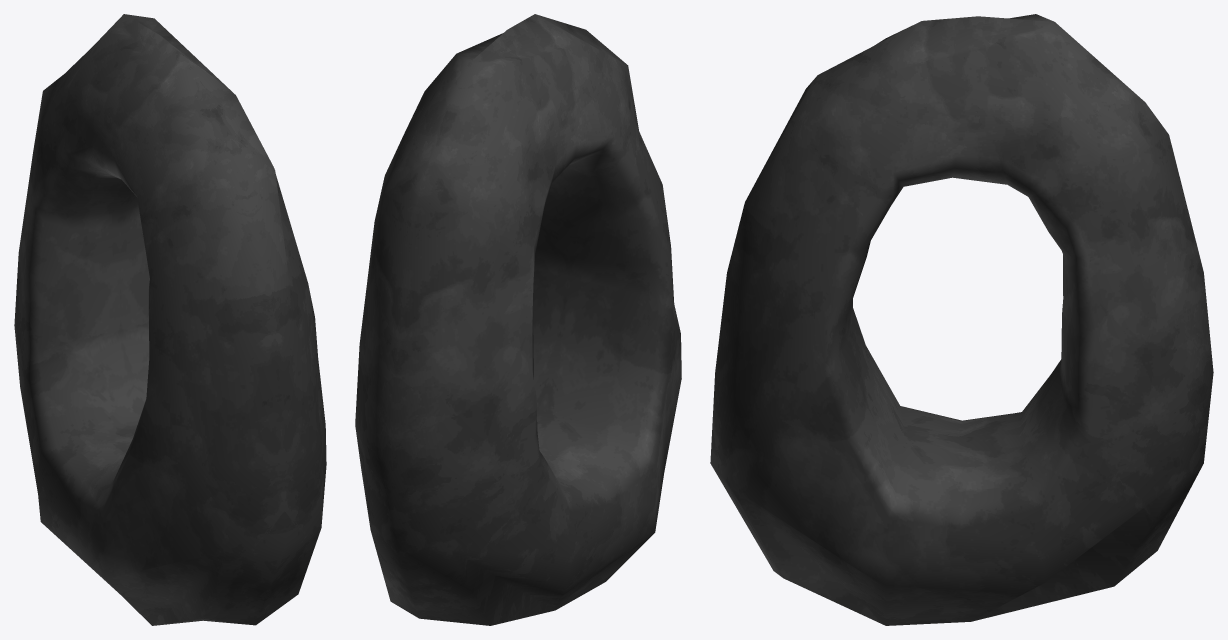
File: stone10.fbx
3 renders of one model, left to right at view 1: azimuth 30°, elevation 25°; view 2: azimuth 150°, elevation 25°; view 3: azimuth 270°, elevation 25°, orthographic. The views are drawn at different scales.
Parts seen in each view (by area): view 1: stone10; view 2: stone10; view 3: stone10.
Boxes of the visible parts, left/top/right/bottom form: stone10: left=14, top=14, right=326, bottom=625; stone10: left=355, top=14, right=681, bottom=625; stone10: left=710, top=14, right=1213, bottom=625.
Bounding box in the file's own units: 65.31 × 174 × 134.
